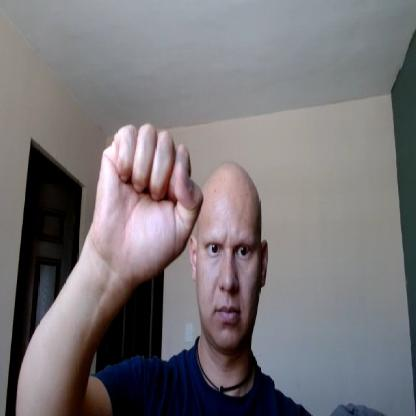S: (93, 124, 204, 274)
